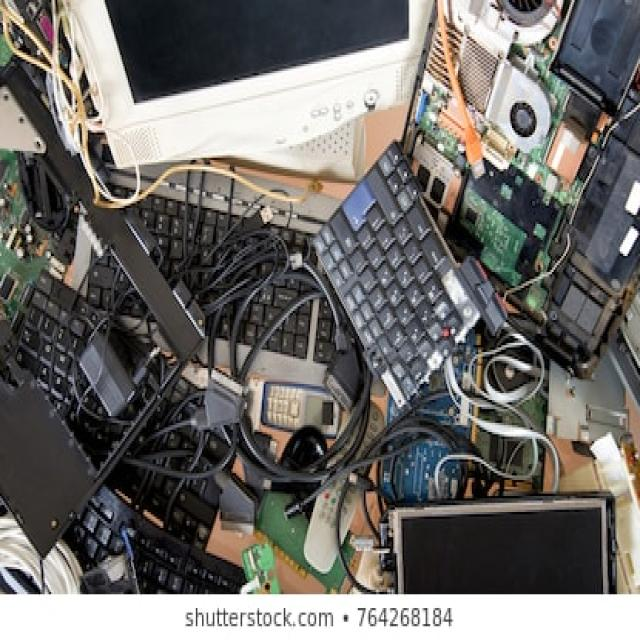Hazard: (0, 8, 640, 596)
